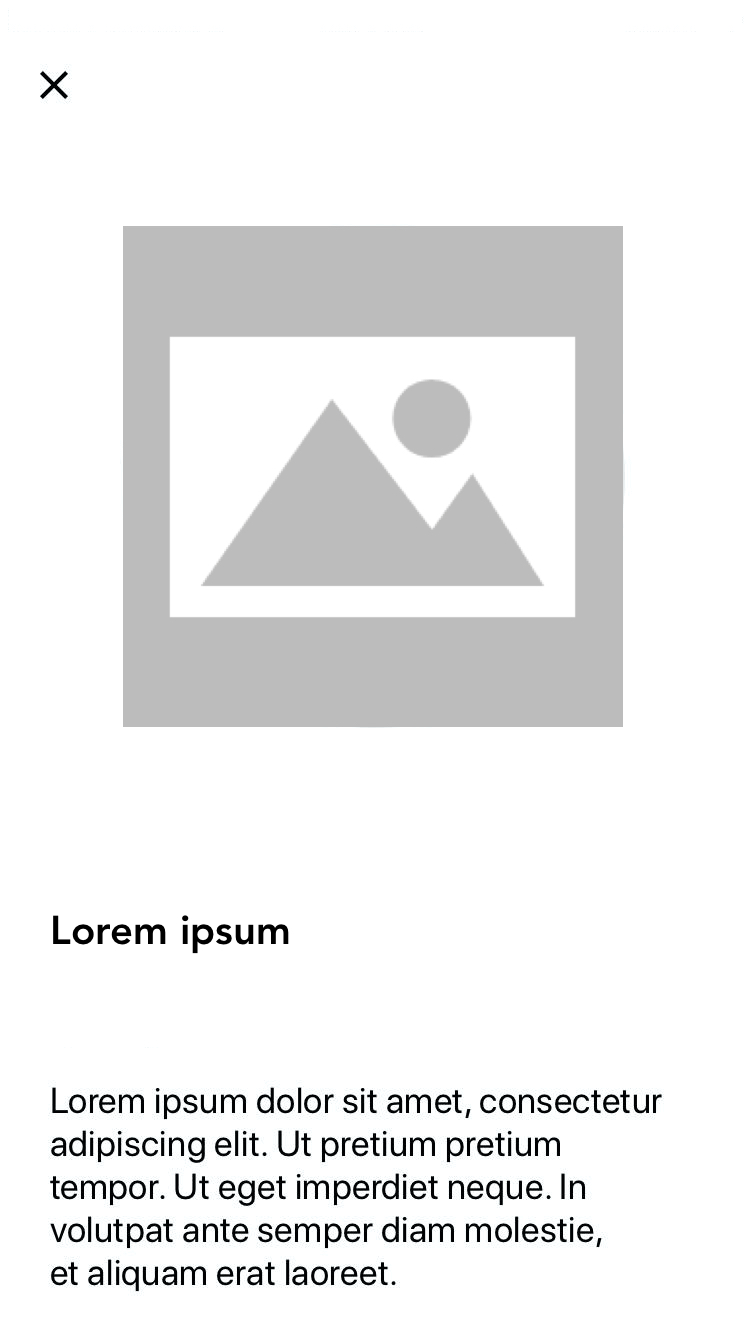Icon: (40, 71, 70, 101)
Image: (124, 226, 624, 728)
Text: (49, 1087, 664, 1293), (53, 914, 291, 954)
